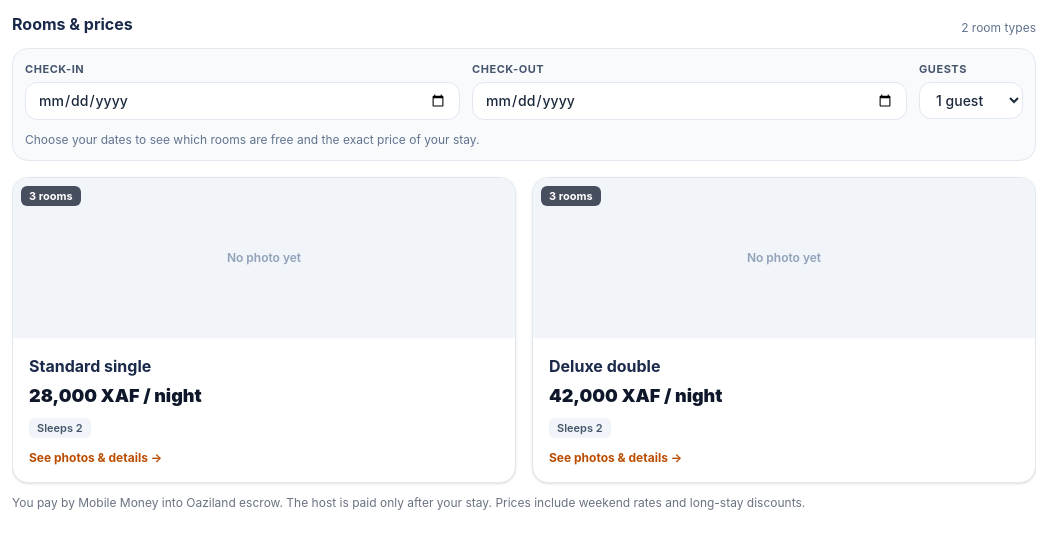
Test: HotelRoomBooking › shows each room type, then the rooms free and the server's total once dates are chosen
Check: the text "Deluxe double" is shown, box 549,356 -> 660,376
Check: the text "28,000 XAF / night" is shown, box 29,384 -> 202,406
Type "2030-05-01" into the date field labelled "Check-in".
click(242, 100); type("2030-05-01")  # box 25,82 -> 460,120
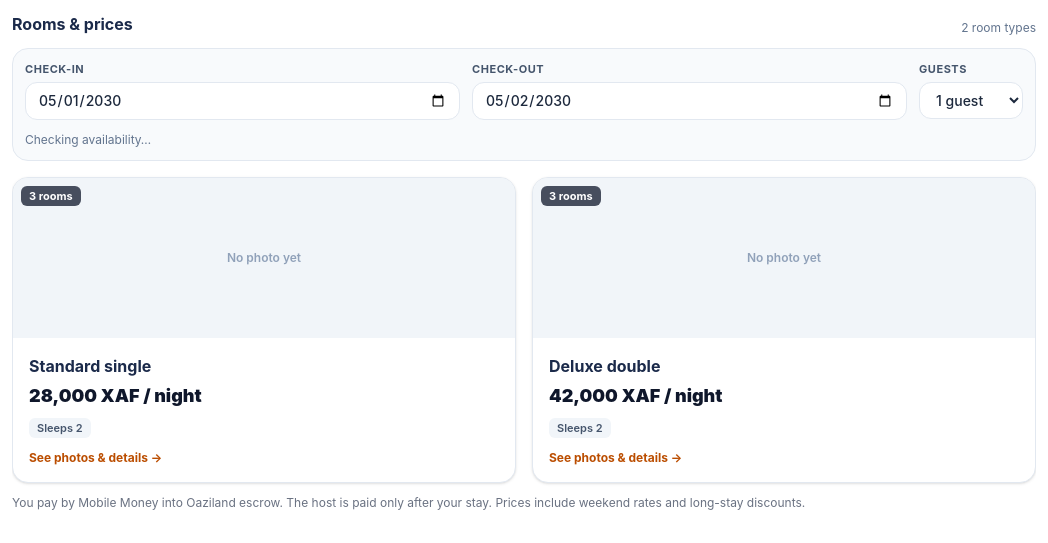
Type "2030-05-03" into the date field labelled "Check-out".
click(690, 100); type("2030-05-03")  # box 472,82 -> 907,120
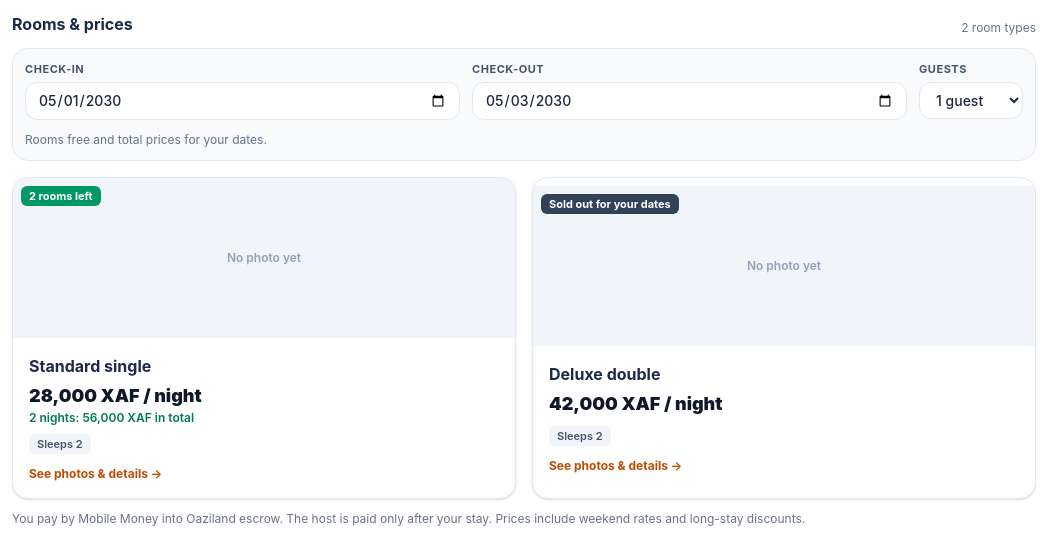
Check: the text "2 nights: 56,000 XAF in total" is shown, box 29,410 -> 194,424
Check: the text "2 rooms left" is shown, box 21,186 -> 100,206
Check: the text "Sold out for your dates" is shown, box 541,194 -> 679,214
